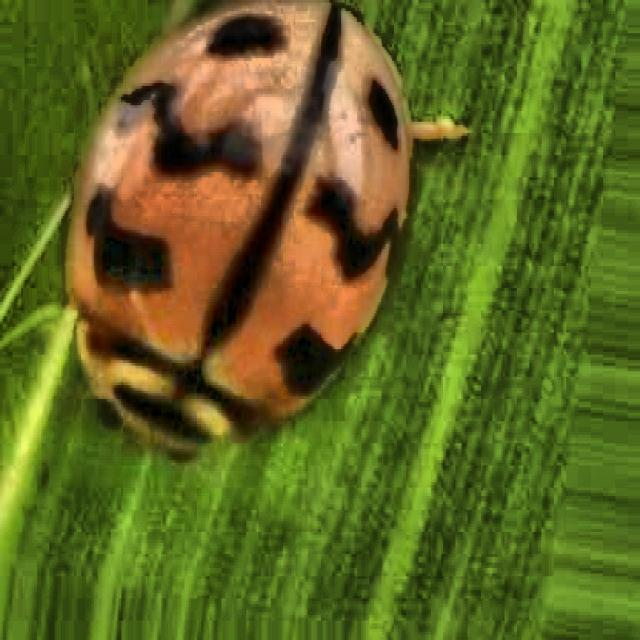Asian-Lady-beetle: (40, 4, 460, 546)
